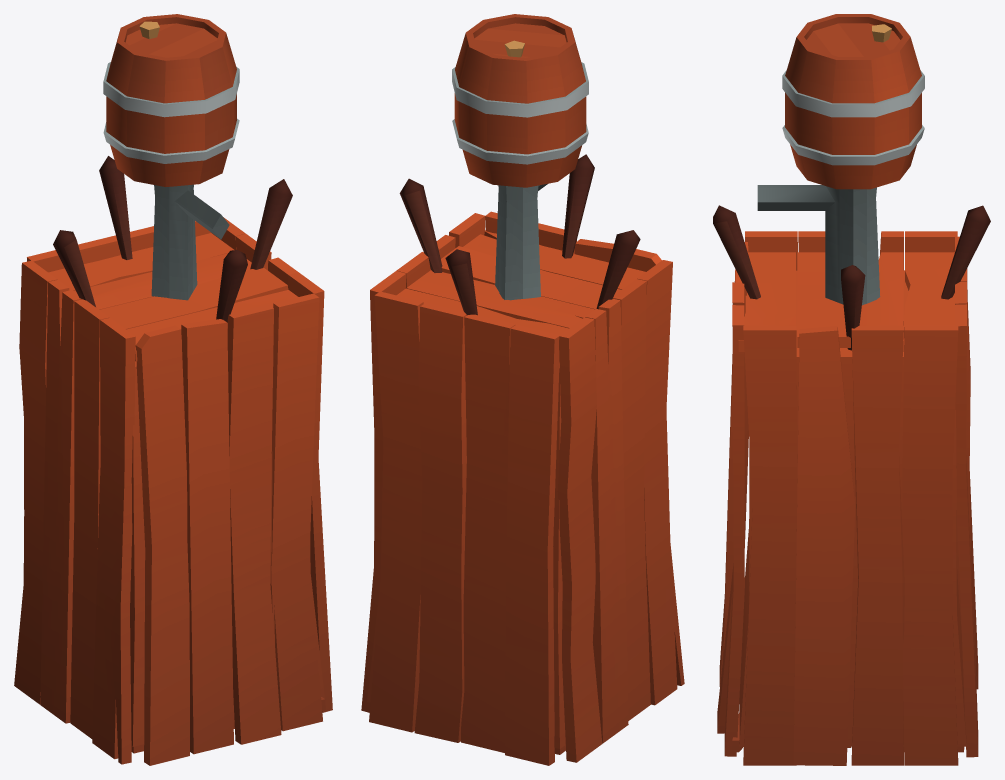
Rendered from m_towerFlameThrower_01.fbx.
3 views of the same model, side by side, from view 1: azimuth 30°, elevation 25°; view 2: azimuth 150°, elevation 25°; view 3: azimuth 270°, elevation 25° (orthographic). The views are drawn at different scales.
Parts seen in each view (by area): view 1: TowerBase, FlameThrower, torches; view 2: TowerBase, FlameThrower, torches; view 3: TowerBase, FlameThrower, torches.
Part boxes in pixels (box(x1,y1,x2,y2)): TowerBase: box(14, 217, 332, 765); FlameThrower: box(103, 14, 239, 300); torches: box(53, 156, 292, 322); TowerBase: box(361, 211, 684, 765); FlameThrower: box(452, 14, 588, 300); torches: box(399, 154, 640, 315); TowerBase: box(717, 231, 978, 765); FlameThrower: box(757, 14, 924, 305); torches: box(713, 205, 990, 350).
Bounding box in the file's own units: 235 × 631 × 234.
